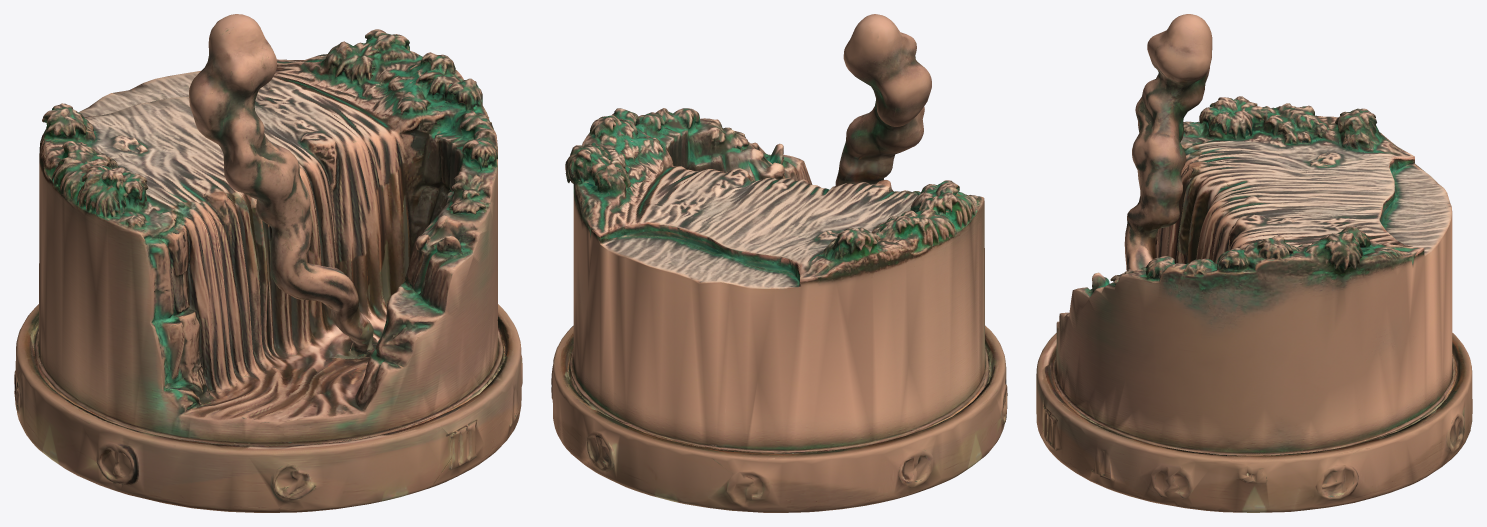
The model's file is victoria_falls_bronze.glb.
3 renders of one model, left to right at view 1: azimuth 30°, elevation 25°; view 2: azimuth 150°, elevation 25°; view 3: azimuth 270°, elevation 25°, orthographic. The views are drawn at different scales.
Visible parts, largest first — view 1: Mesh_0; view 2: Mesh_0; view 3: Mesh_0.
Part boxes in pixels (x1,y1,x2,y2): Mesh_0: [14, 14, 522, 512]; Mesh_0: [551, 14, 1007, 512]; Mesh_0: [1036, 14, 1472, 512].
Bounding box in the file's own units: 1.91 × 1.82 × 1.9.
1 material, 1 textured.
